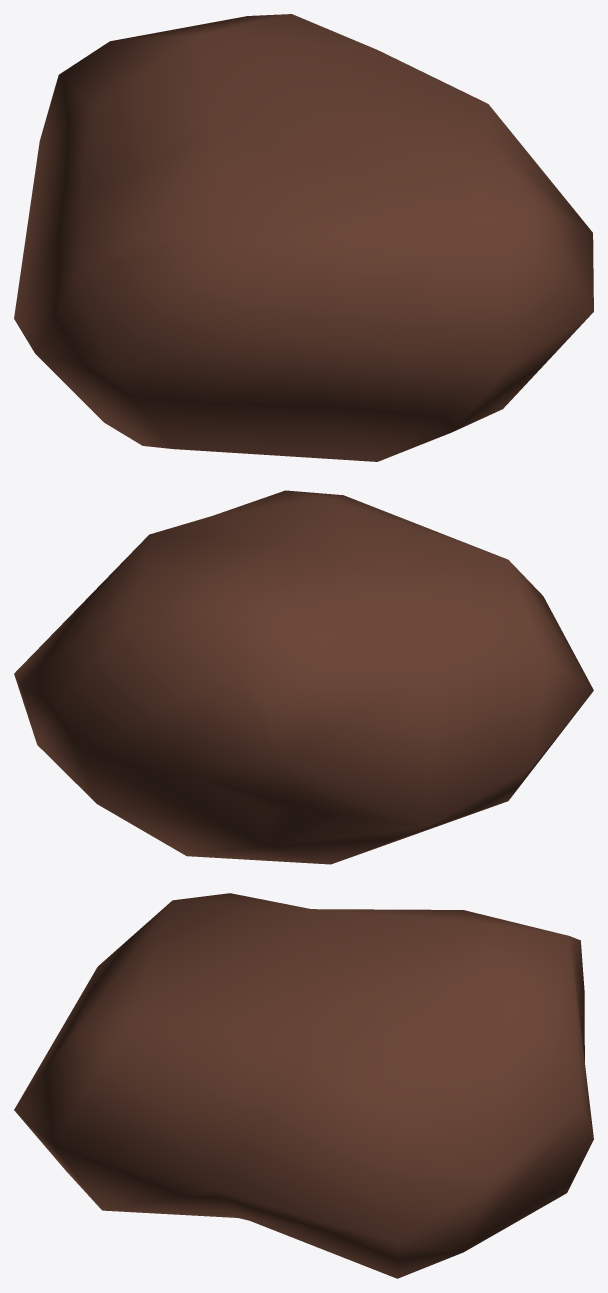
Rendered from Stone2.fbx.
3 renders of one model, top to bottom at view 1: azimuth 30°, elevation 25°; view 2: azimuth 150°, elevation 25°; view 3: azimuth 270°, elevation 25°, orthographic. The views are drawn at different scales.
Parts seen in each view (by area): view 1: Stone2; view 2: Stone2; view 3: Stone2.
Boxes of the visible parts, x1,y1,x2,y2 form: Stone2: (14,14,593,461); Stone2: (14,490,593,864); Stone2: (14,893,593,1278).
Bounding box in the file's own units: 99.61 × 55.22 × 97.48.
